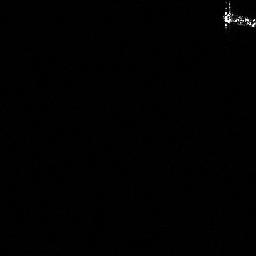ship: (221, 2, 256, 29)
